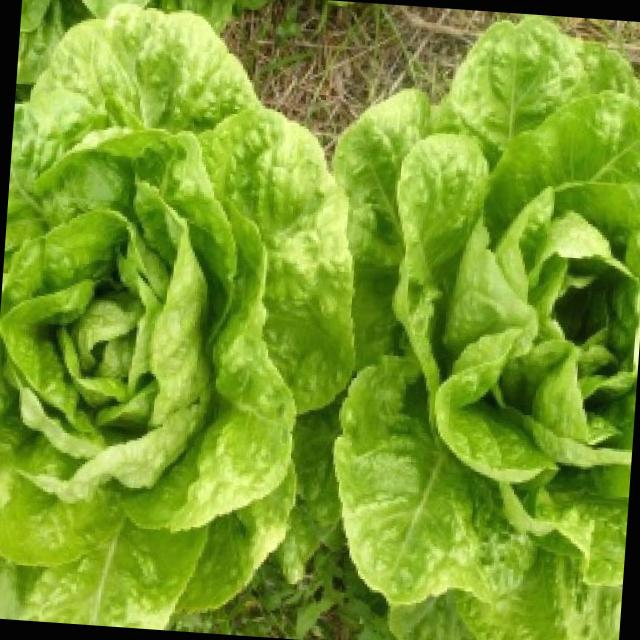Lettuce-Ready-to-Harvest: (0, 4, 640, 640)
